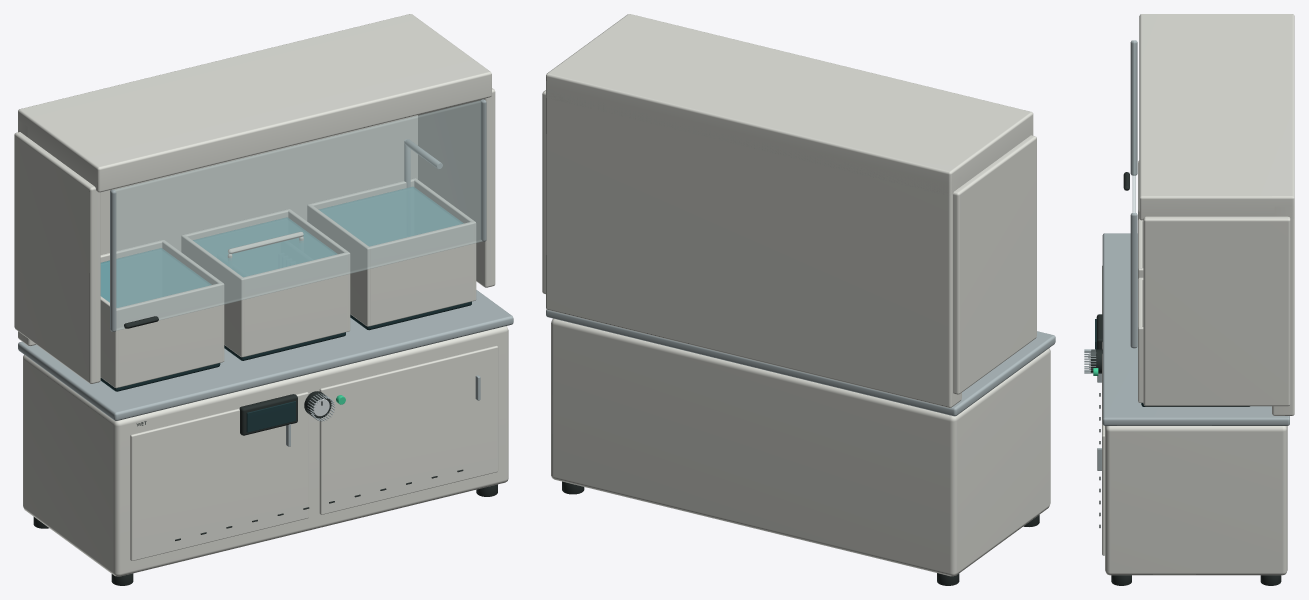
File: wet.glb
3 views of the same model, side by side, from view 1: azimuth 30°, elevation 25°; view 2: azimuth 150°, elevation 25°; view 3: azimuth 270°, elevation 25° (orthographic). The views are drawn at different scales.
Visible parts, largest first — view 1: Equipment_wet_Ceramic ivory, Door_Quartz inspection, Equipment_wet_Brushed stainless, Equipment_wet_DI water, Door_Brushed stainless, Equipment_wet_Instrument glass, Equipment_wet_Knurled graphite, LCD; view 2: Equipment_wet_Ceramic ivory, Equipment_wet_Brushed stainless; view 3: Equipment_wet_Ceramic ivory, Equipment_wet_Brushed stainless, Door_Brushed stainless, Equipment_wet_Knurled graphite, Door_Quartz inspection.
Part boxes in pixels (x1,y1,x2,y2): Equipment_wet_Ceramic ivory: [14, 14, 508, 576]; Door_Quartz inspection: [114, 100, 482, 330]; Equipment_wet_Brushed stainless: [18, 139, 513, 446]; Equipment_wet_DI water: [100, 186, 463, 307]; Door_Brushed stainless: [110, 99, 486, 331]; Equipment_wet_Instrument glass: [100, 301, 471, 391]; Equipment_wet_Knurled graphite: [33, 394, 497, 585]; LCD: [246, 401, 295, 432]; Equipment_wet_Ceramic ivory: [542, 14, 1050, 576]; Equipment_wet_Brushed stainless: [546, 309, 1055, 416]; Equipment_wet_Ceramic ivory: [1102, 14, 1294, 575]; Equipment_wet_Brushed stainless: [1084, 233, 1289, 470]; Door_Brushed stainless: [1130, 40, 1137, 348]; Equipment_wet_Knurled graphite: [1088, 314, 1281, 585]; Door_Quartz inspection: [1132, 41, 1135, 212].
Size of the model in its own units: 2.16 by 2.08 by 1.02.
